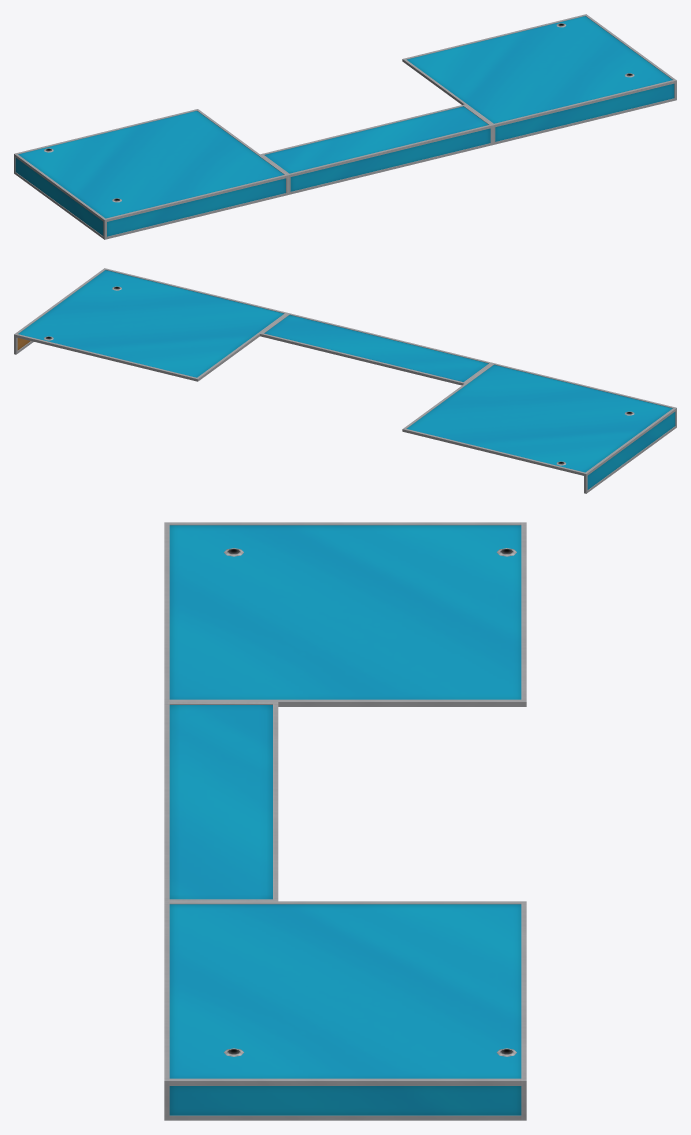
The model's file is jsf_4P_s04_c02_t02_DX.fbx.
The picture shows the model from 3 angles, top to bottom: view 1: azimuth 30°, elevation 25°; view 2: azimuth 150°, elevation 25°; view 3: azimuth 270°, elevation 25°; orthographic projection. The views are drawn at different scales.
Parts seen in each view (by area): view 1: jsf_4P_s04_c02_t02_DX; view 2: jsf_4P_s04_c02_t02_DX; view 3: jsf_4P_s04_c02_t02_DX.
Part boxes in pixels (bbox=[...]): jsf_4P_s04_c02_t02_DX: bbox=[14, 14, 676, 239]; jsf_4P_s04_c02_t02_DX: bbox=[14, 268, 676, 493]; jsf_4P_s04_c02_t02_DX: bbox=[164, 522, 526, 1120].
Bounding box in the file's own units: 378 × 12.99 × 104.
